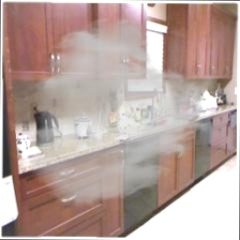smoke: (55, 52, 183, 172)
